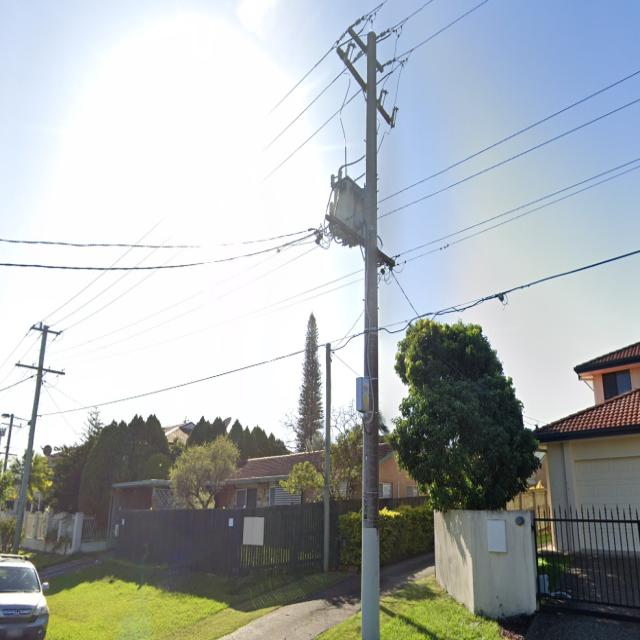HV-transmission: (336, 15, 399, 129), (29, 322, 63, 338)
concrete-pole: (360, 31, 380, 640)
crossarm: (336, 45, 392, 126), (326, 212, 395, 270), (346, 27, 384, 73), (17, 363, 63, 376), (32, 327, 60, 335), (1, 422, 22, 428), (0, 452, 18, 456)
timber-pole: (10, 324, 49, 553), (3, 412, 14, 472)
transformer: (327, 172, 364, 246)
